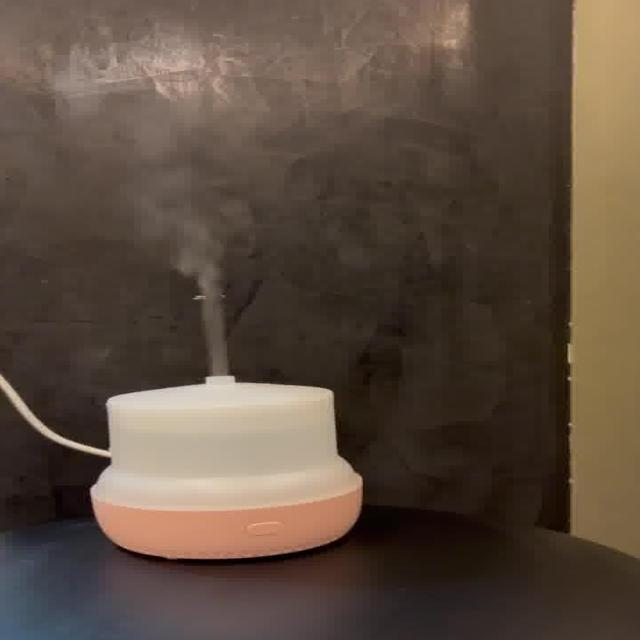fire: (62, 96, 240, 374)
